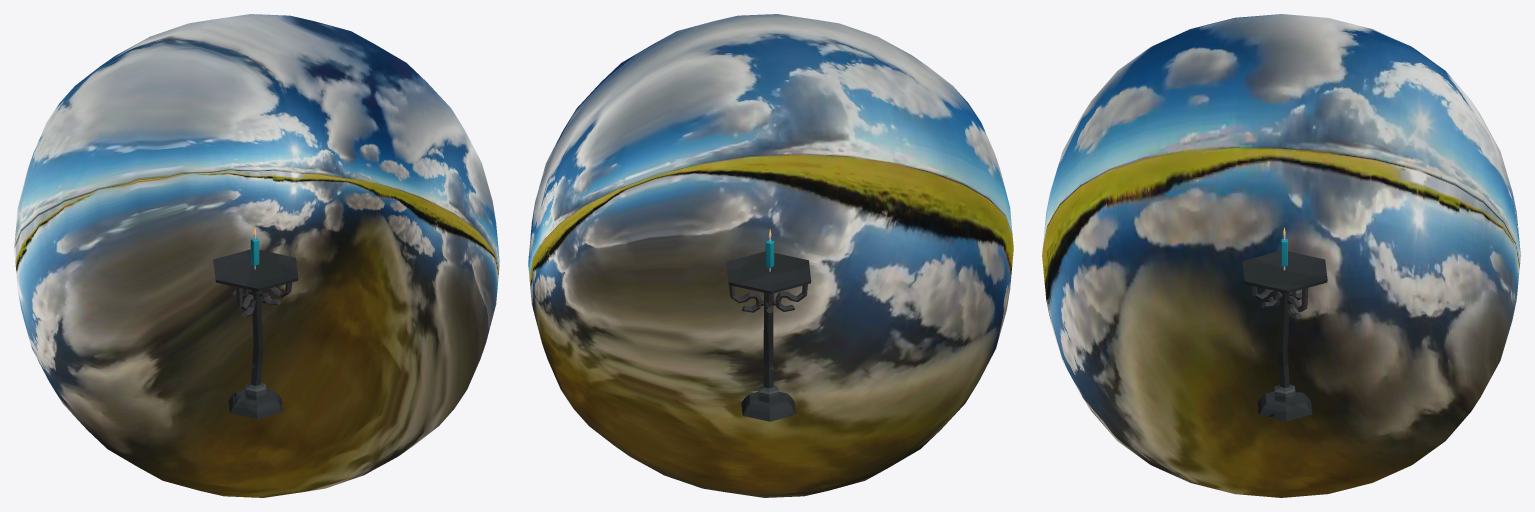
Rendered from XCandleAnimatedFlameJapanese.glb.
3 renders of one model, left to right at view 1: azimuth 30°, elevation 25°; view 2: azimuth 150°, elevation 25°; view 3: azimuth 270°, elevation 25°, orthographic.
Visible parts, largest first — view 1: Room, Candle_Stand; view 2: Room, Candle_Stand; view 3: Room, Candle_Stand.
Boxes of the visible parts, <box> form: Room: <box>14,14,499,497</box>; Candle_Stand: <box>213,249,298,419</box>; Room: <box>528,14,1013,497</box>; Candle_Stand: <box>726,251,811,421</box>; Room: <box>1042,14,1520,497</box>; Candle_Stand: <box>1242,250,1327,421</box>.
Bounding box in the file's own units: 24.44 × 24.44 × 24.44.
Materials: 5 (3 with a texture image).
